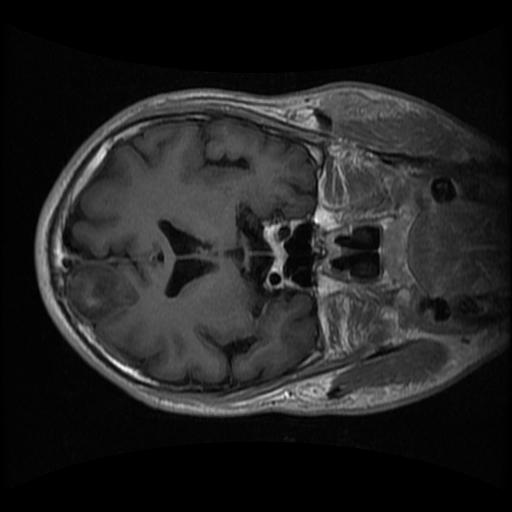glioma: (65, 259, 138, 325)
